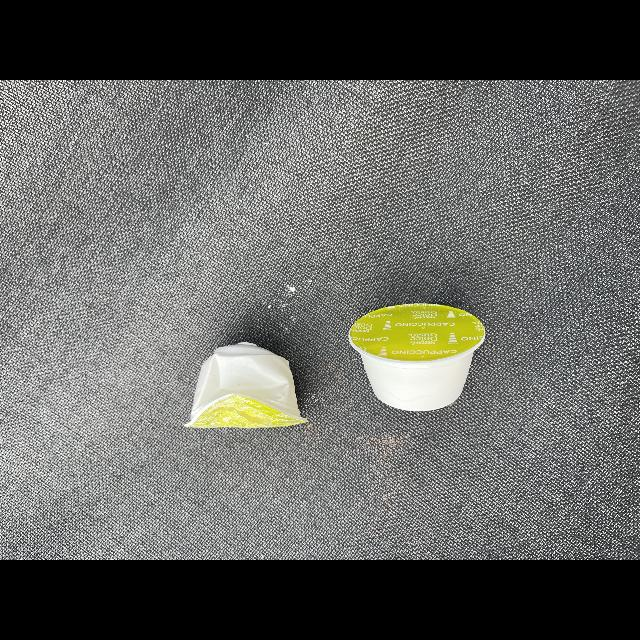damaged_capsule: (182, 335, 312, 453)
intact_capsule: (344, 292, 496, 431)
